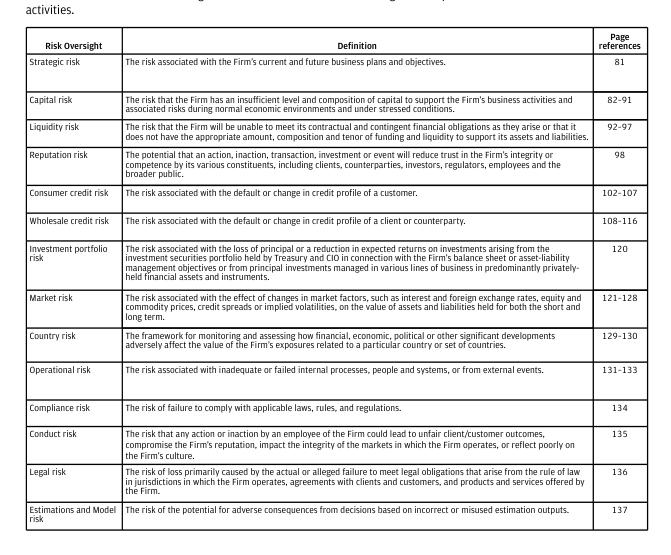table: (28, 29, 639, 523)
table column: (119, 29, 592, 523), (28, 29, 119, 523), (592, 29, 639, 523)
table column header: (28, 29, 639, 52)
table row: (28, 233, 639, 286), (28, 419, 639, 462), (28, 144, 639, 182), (28, 286, 639, 324), (28, 79, 639, 116), (28, 462, 639, 499), (28, 324, 639, 356), (28, 387, 639, 419), (28, 356, 639, 387), (28, 116, 639, 144), (28, 205, 639, 233), (28, 52, 639, 79), (28, 499, 639, 523), (28, 29, 639, 52), (28, 182, 639, 205)
